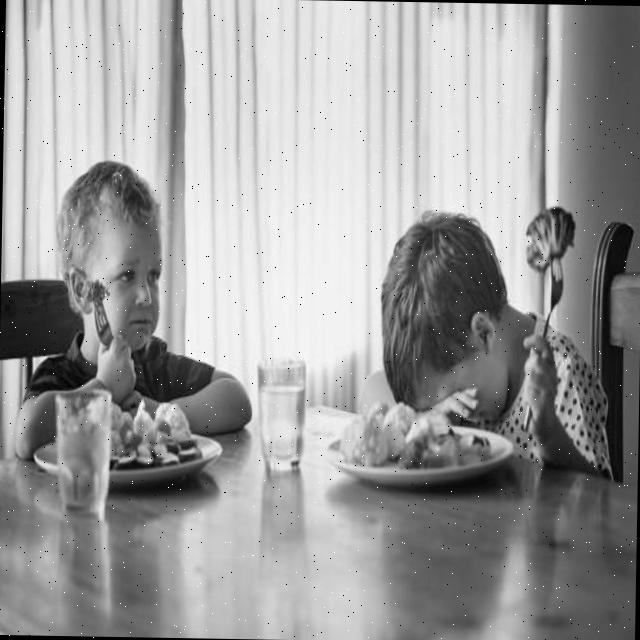Sadness: (90, 214, 163, 352)
